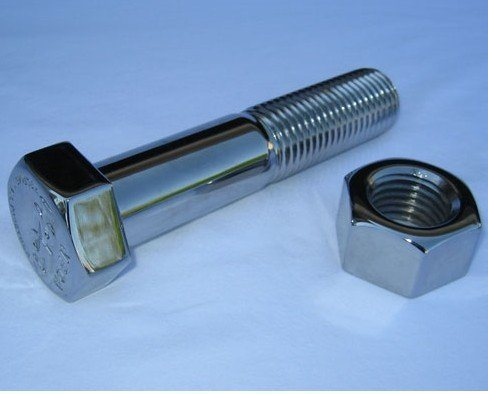screw: (7, 66, 401, 304)
